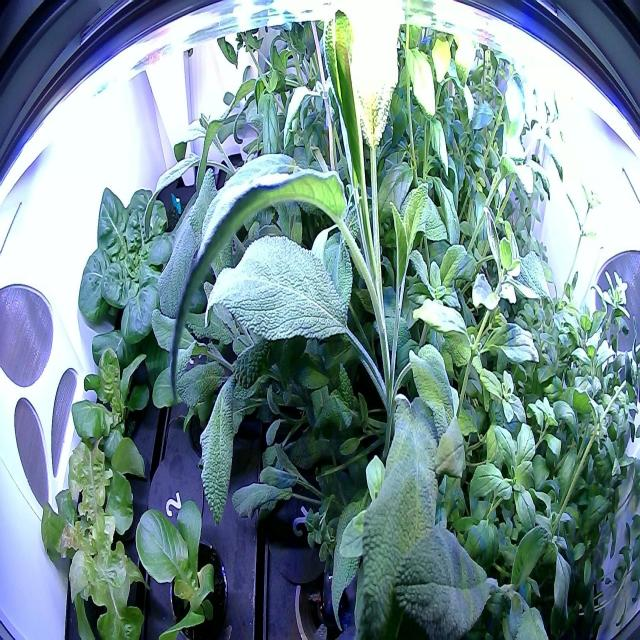Ready: (67, 170, 212, 378)
young: (124, 484, 241, 638), (56, 337, 157, 498)
